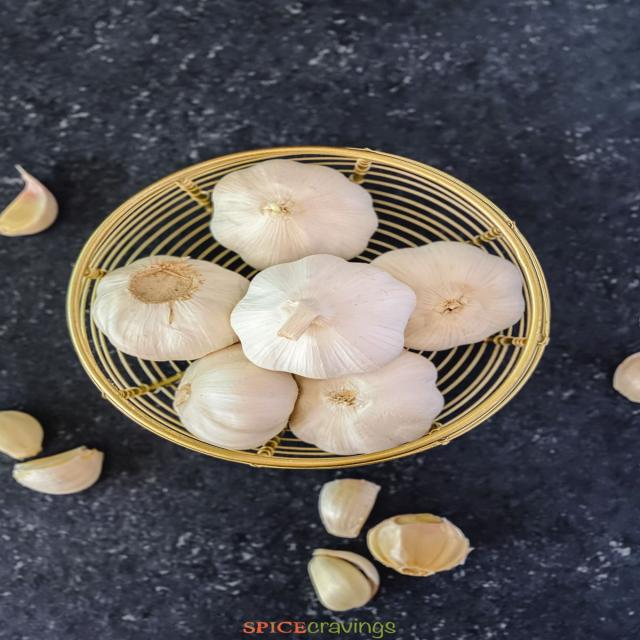garlic: (297, 478, 477, 617), (235, 256, 414, 376), (95, 258, 276, 365), (211, 158, 381, 270), (368, 241, 531, 353), (287, 350, 446, 452), (170, 348, 292, 453), (1, 410, 106, 497), (1, 173, 69, 239)
